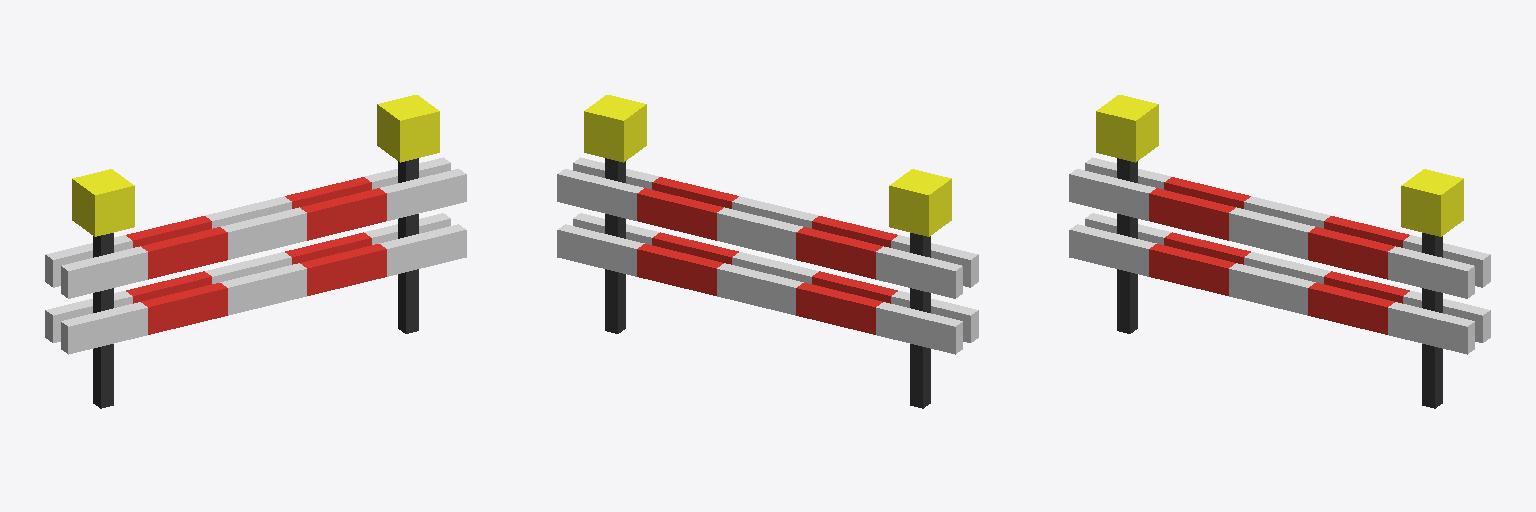
3 renders of one model, left to right at view 1: azimuth 30°, elevation 25°; view 2: azimuth 150°, elevation 25°; view 3: azimuth 330°, elevation 25°, orthographic.
Visible parts, largest first — view 1: object 1; view 2: object 1; view 3: object 1.
Part boxes in pixels (x1,y1,x2,y2): object 1: (45, 95, 466, 408); object 1: (557, 95, 978, 408); object 1: (1069, 95, 1490, 408).
Size of the model in its own units: 3 by 1.6 by 0.3.
Materials: 1 (1 with a texture image).